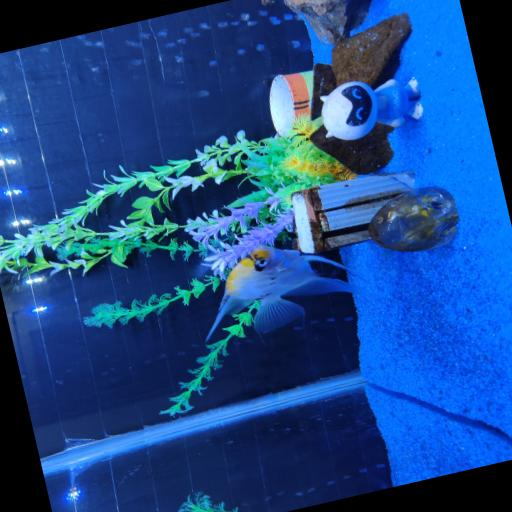Fish: (207, 245, 379, 339)
